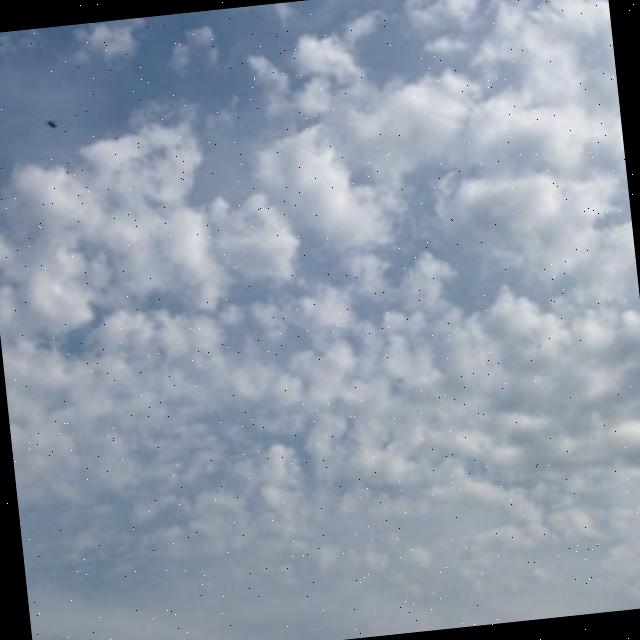Ac: (1, 1, 640, 613)
